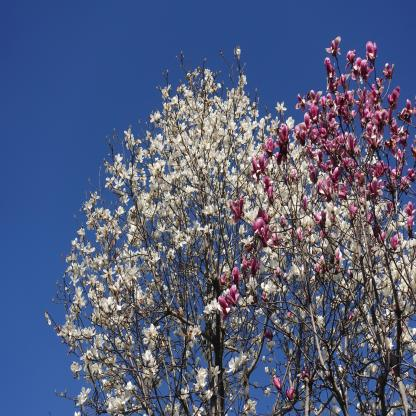Mokuren: (43, 45, 319, 416), (218, 31, 416, 416)
